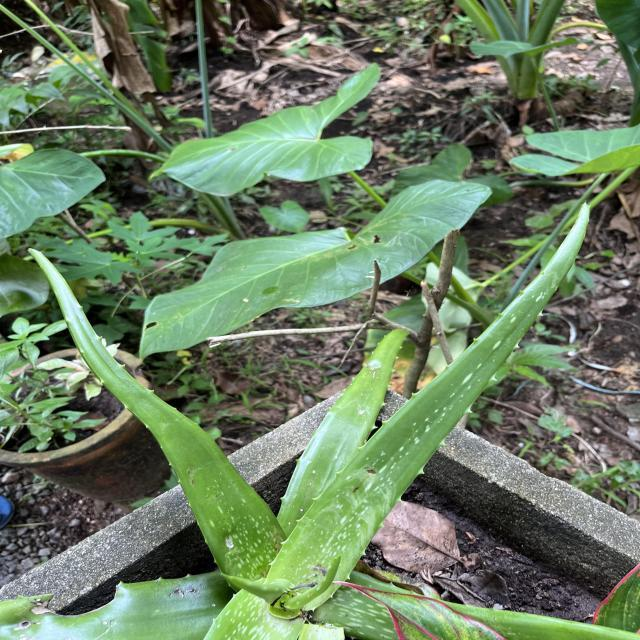Aloe vera: (265, 201, 598, 614), (26, 245, 288, 582)
